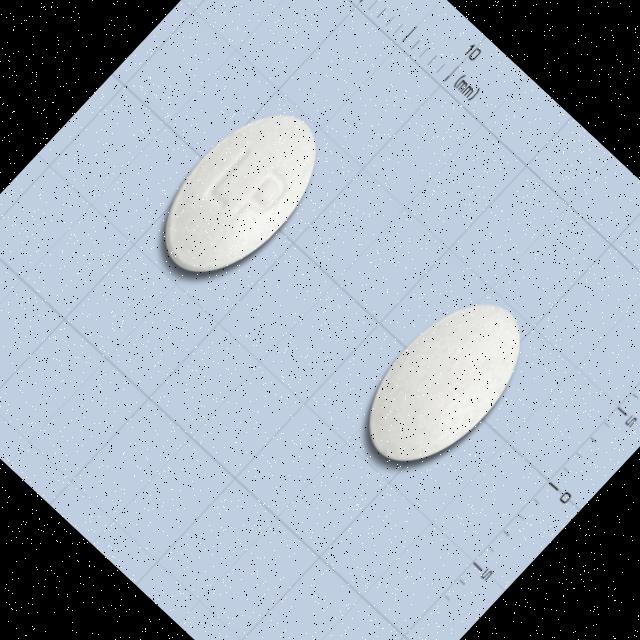Nofaxin Tab: (137, 88, 345, 300)
